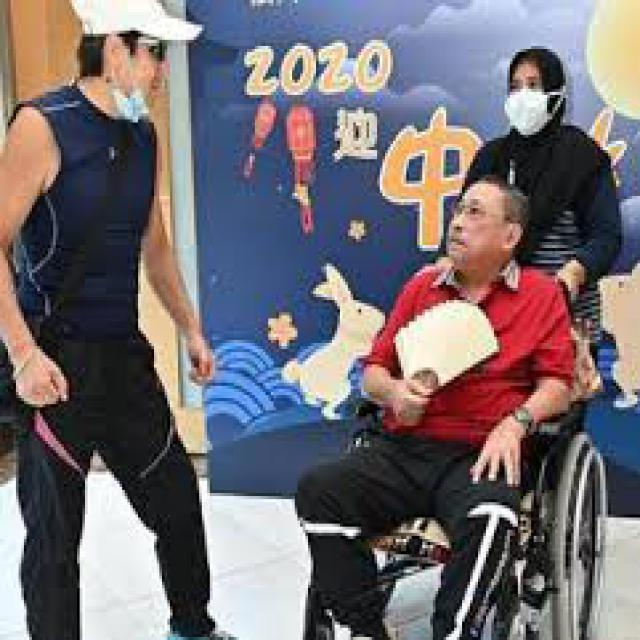wheelchairs: (289, 245, 619, 637)
